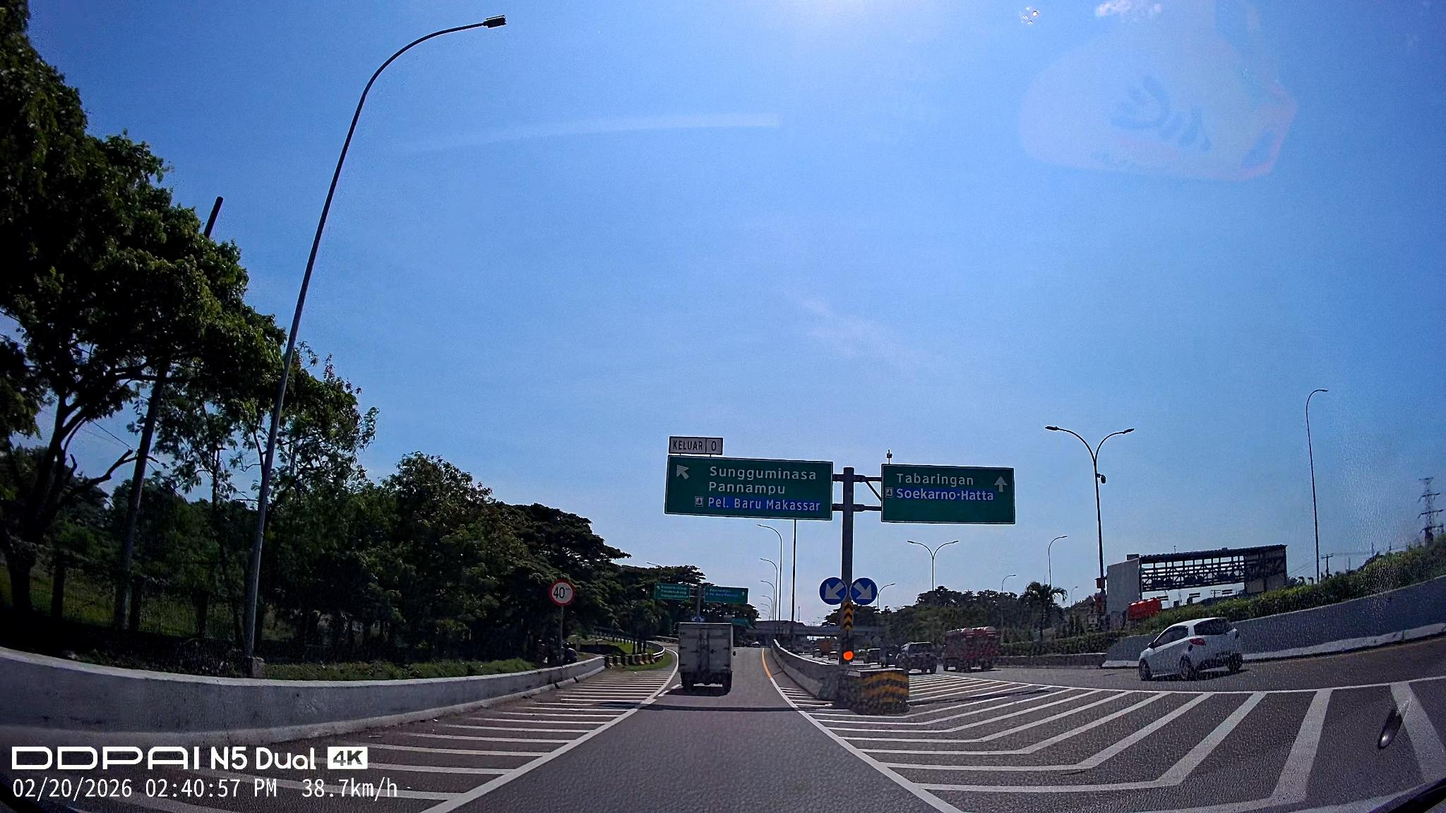rambu_teks: (663, 455, 833, 521), (881, 463, 1016, 525)
